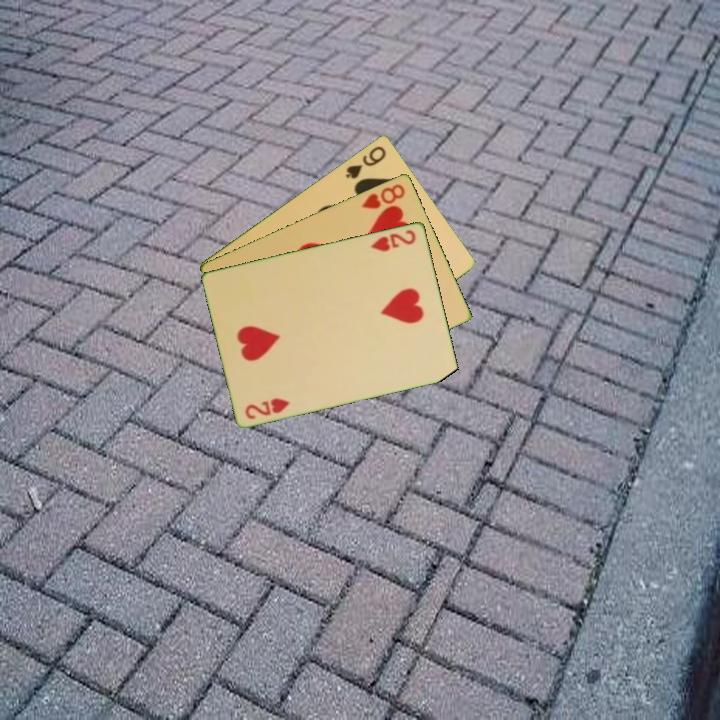2h: (368, 226, 419, 254), (242, 394, 293, 422)
8h: (358, 180, 408, 212)
9s: (342, 142, 389, 182)
